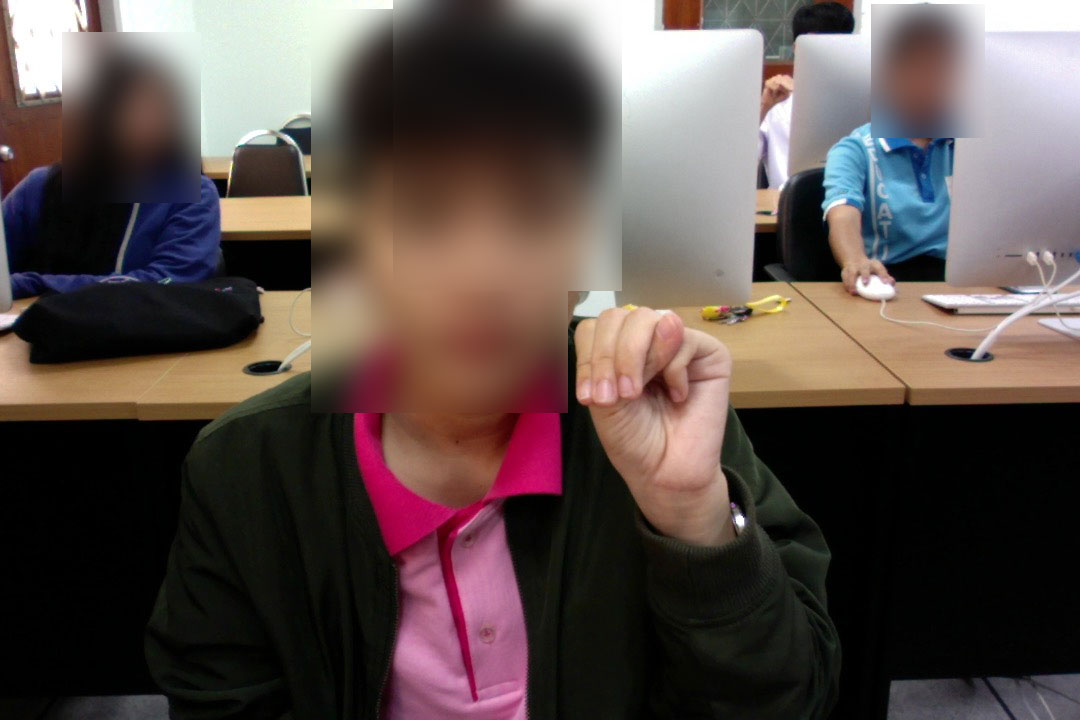mor: (569, 300, 741, 500)
